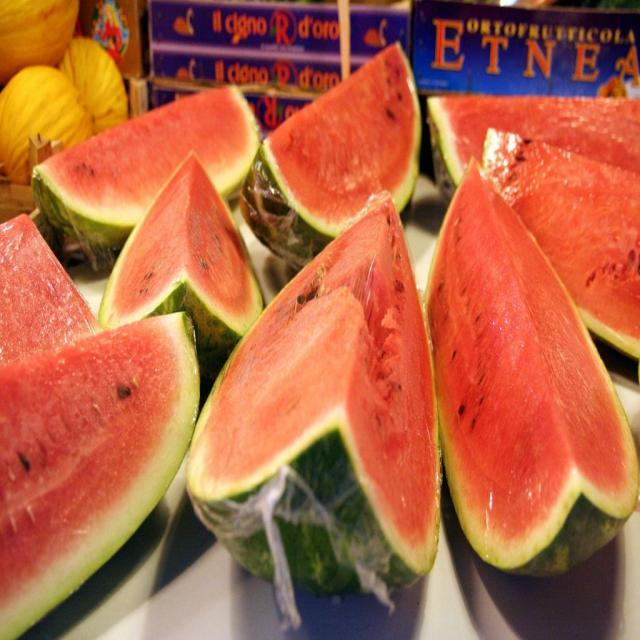Watermelon: (0, 40, 639, 639), (5, 306, 207, 638)
